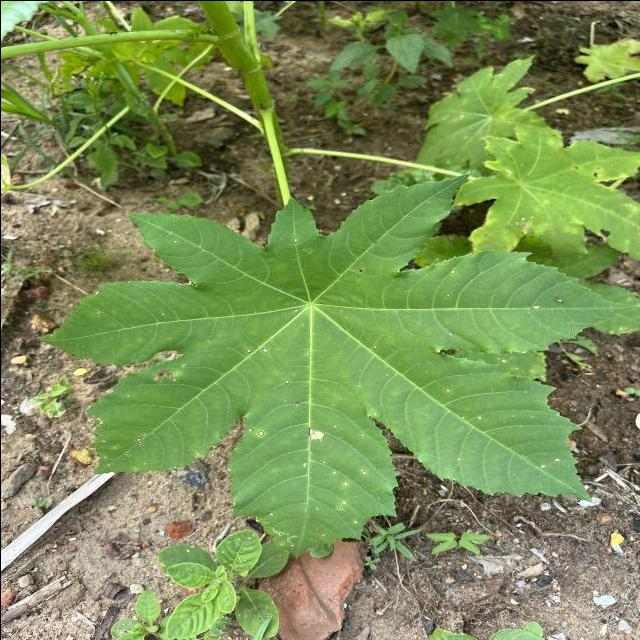Ricinus communis linn: (30, 167, 640, 563)
